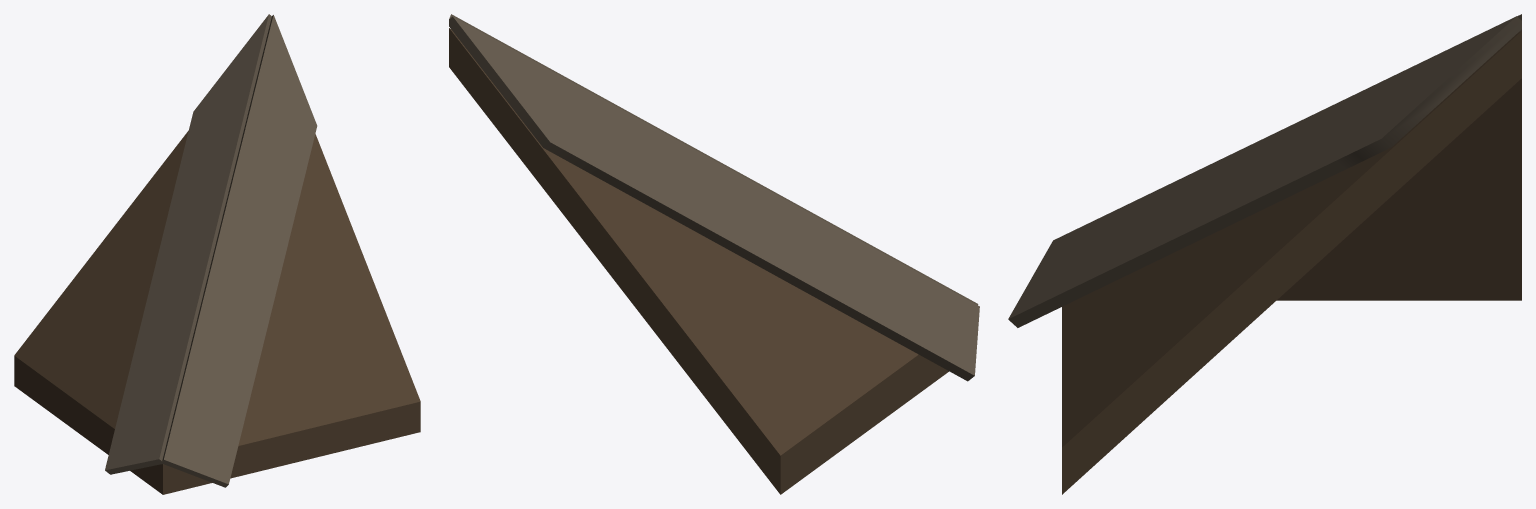
Rendered from dach_grat_1x1.glb.
The picture shows the model from 3 angles, left to right: view 1: azimuth 30°, elevation 25°; view 2: azimuth 150°, elevation 25°; view 3: azimuth 270°, elevation 25°; orthographic projection. The views are drawn at different scales.
Visible parts, largest first — view 1: dach_grat_1x1; view 2: dach_grat_1x1; view 3: dach_grat_1x1.
Part boxes in pixels (x1=…): dach_grat_1x1: x1=14, y1=14, x2=420, y2=494; dach_grat_1x1: x1=449, y1=14, x2=979, y2=494; dach_grat_1x1: x1=1008, y1=14, x2=1521, y2=494.
Size of the model in its own units: 1.12 by 1.15 by 1.12.
